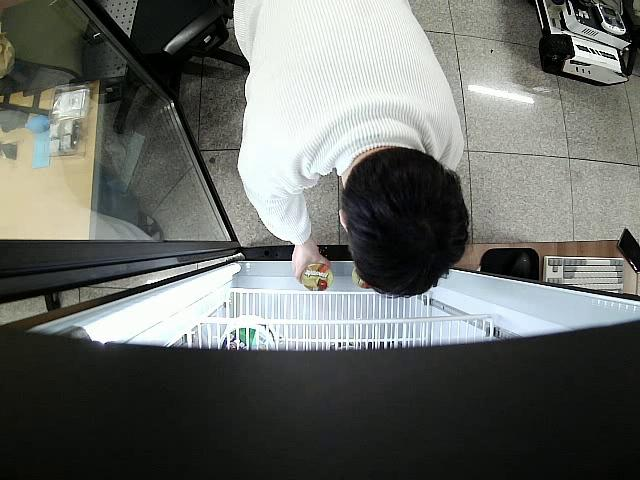00_hand: (291, 243, 332, 283)
04_chapagetti_S: (301, 263, 334, 293)
